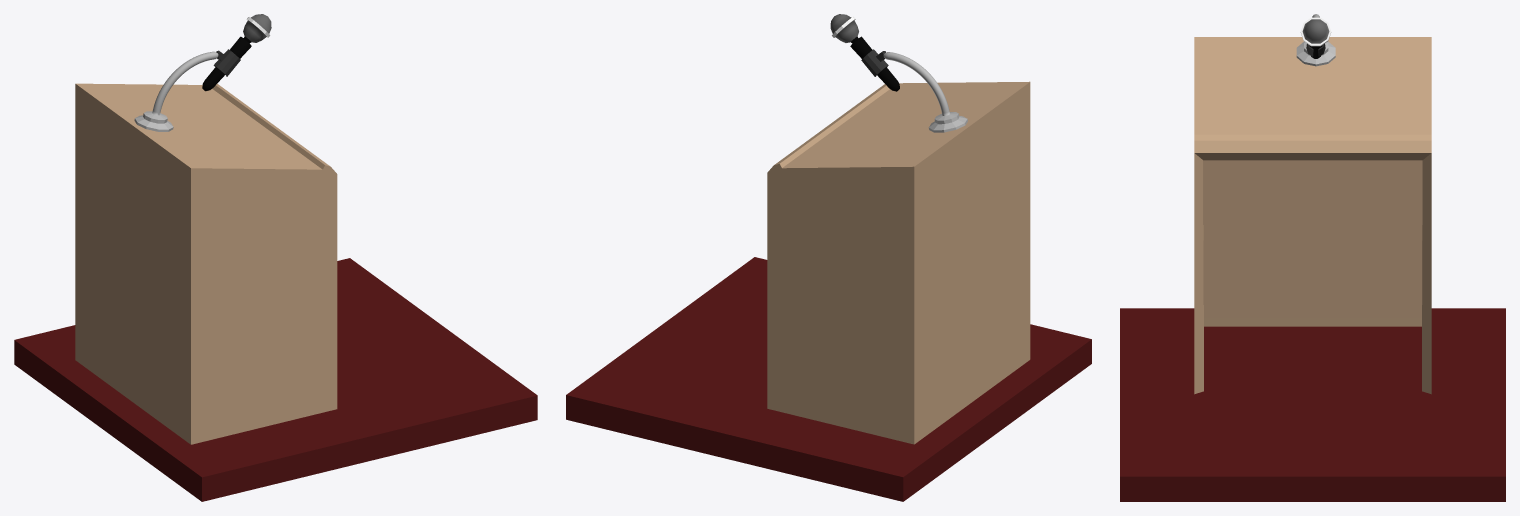
The model's file is podium.fbx.
3 views of the same model, side by side, from view 1: azimuth 30°, elevation 25°; view 2: azimuth 150°, elevation 25°; view 3: azimuth 270°, elevation 25° (orthographic). The views are drawn at different scales.
Parts seen in each view (by area): view 1: Cube, Cube.001, Circle.002, Circle; view 2: Cube, Cube.001, Circle.002, Circle; view 3: Cube, Cube.001, Circle, Circle.002.
Boxes of the visible parts, x1,y1,x2,y2 form: Cube: (75,83,337,444); Cube.001: (14,258,537,501); Circle.002: (134,49,240,131); Circle: (202,14,271,91); Cube: (767,81,1030,444); Cube.001: (566,257,1091,501); Circle.002: (861,49,967,132); Circle: (830,14,899,91); Cube: (1194,37,1431,394); Cube.001: (1120,308,1505,501); Circle: (1300,17,1331,58); Circle.002: (1296,14,1335,66).
Bounding box in the file's own units: 335 × 362 × 325.
